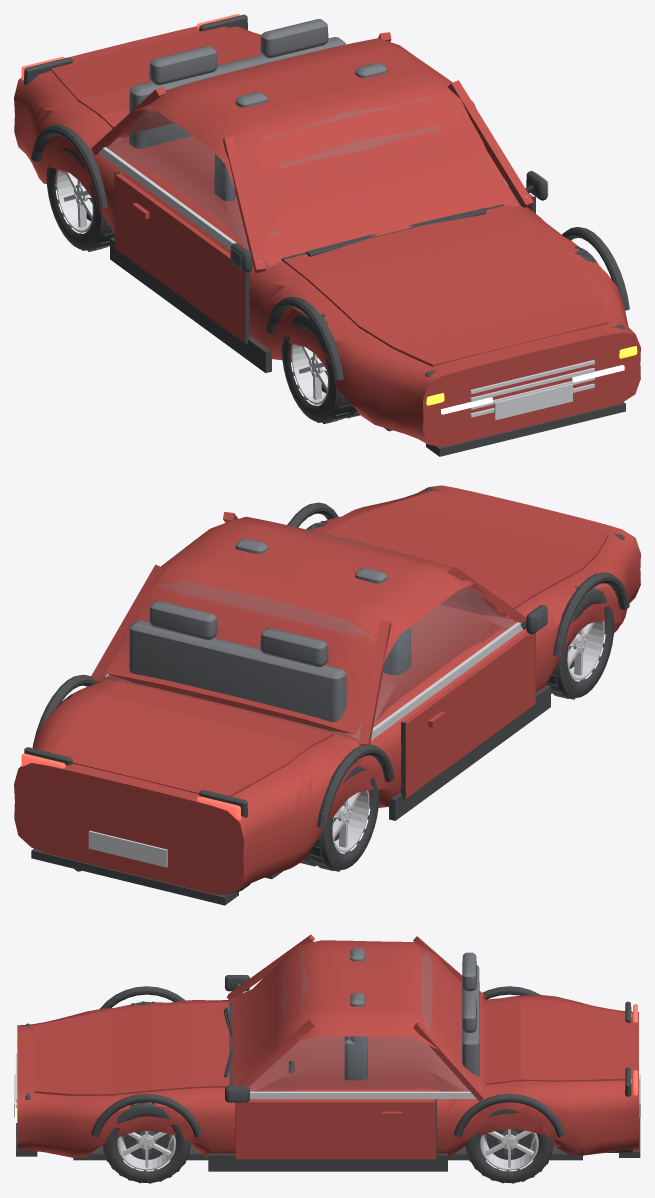
File: type_rear.glb
3 views of the same model, one above another, from view 1: azimuth 30°, elevation 25°; view 2: azimuth 150°, elevation 25°; view 3: azimuth 270°, elevation 25° (orthographic). The views are drawn at different scales.
Visible parts, largest first — view 1: coupe, bonnet, door-front-left, boot, wheel-front-left/trim, wheel-rear-left/trim, wheel-rear-left/alloy, wheel-front-left/alloy; view 2: coupe, boot, bonnet, door-front-left, wheel-front-left/trim, wheel-rear-left/trim, wheel-rear-left/alloy, wheel-front-left/alloy; view 3: coupe, bonnet, door-front-right, boot, wheel-front-right/trim, wheel-rear-right/trim, wheel-rear-right/alloy, wheel-front-right/alloy.
Boxes of the visible parts, x1=… form: coupe: x1=14, y1=14, x2=640, y2=456; bonnet: x1=284, y1=205, x2=608, y2=366; door-front-left: x1=115, y1=173, x2=244, y2=342; boot: x1=51, y1=26, x2=262, y2=138; wheel-front-left/trim: x1=281, y1=314, x2=360, y2=423; wheel-rear-left/trim: x1=46, y1=148, x2=114, y2=251; wheel-rear-left/alloy: x1=56, y1=170, x2=93, y2=232; wheel-front-left/alloy: x1=291, y1=344, x2=328, y2=404; coupe: x1=14, y1=485, x2=640, y2=905; boot: x1=53, y1=682, x2=333, y2=796; bonnet: x1=324, y1=491, x2=608, y2=613; door-front-left: x1=403, y1=631, x2=535, y2=798; wheel-front-left/trim: x1=546, y1=586, x2=614, y2=699; wheel-rear-left/trim: x1=300, y1=766, x2=379, y2=871; wheel-rear-left/alloy: x1=332, y1=790, x2=369, y2=852; wheel-front-left/alloy: x1=567, y1=621, x2=604, y2=680; coupe: x1=14, y1=934, x2=640, y2=1171; bonnet: x1=34, y1=1002, x2=229, y2=1095; door-front-right: x1=236, y1=1100, x2=436, y2=1159; boot: x1=485, y1=1000, x2=626, y2=1084; wheel-front-right/trim: x1=103, y1=1102, x2=191, y2=1183; wheel-rear-right/trim: x1=465, y1=1109, x2=553, y2=1183; wheel-rear-right/alloy: x1=480, y1=1129, x2=538, y2=1170; wheel-front-right/alloy: x1=117, y1=1131, x2=175, y2=1170.
Bounding box in the file's own units: 2.06 × 1.33 × 4.7.
